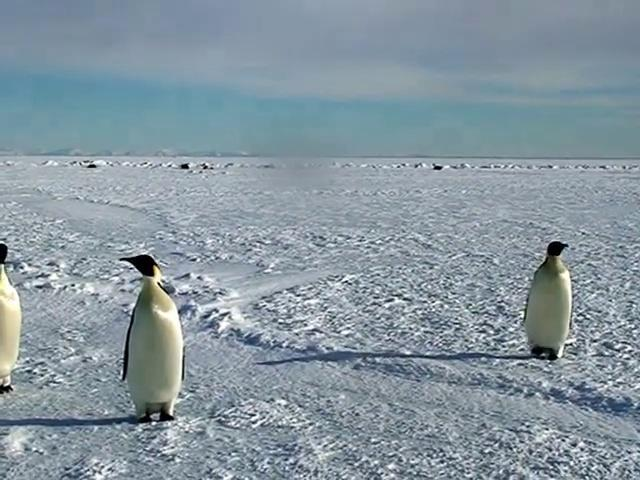animal: (121, 255, 183, 421)
